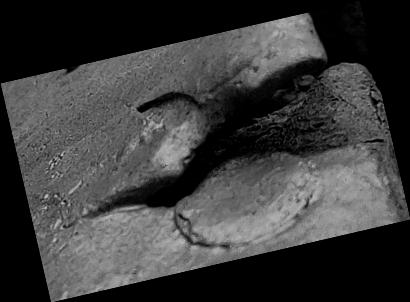crack: (1, 0, 410, 302)
